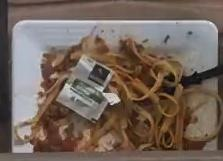pasta: (82, 37, 223, 151)
